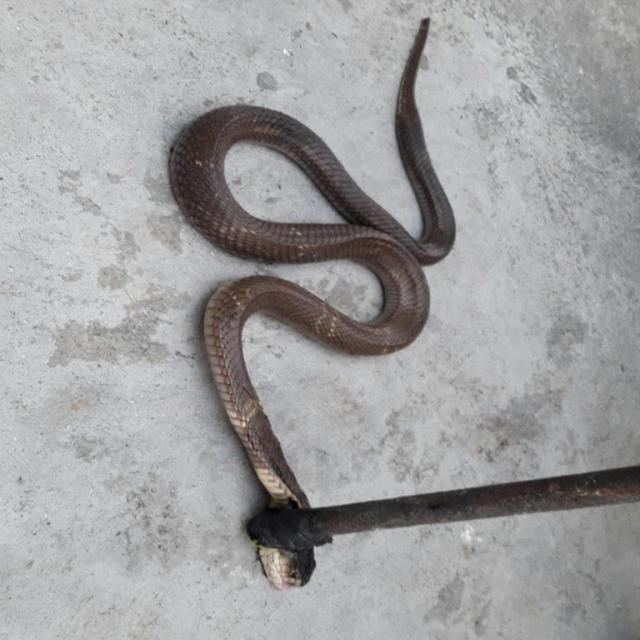Venomous: (238, 457, 350, 598)
